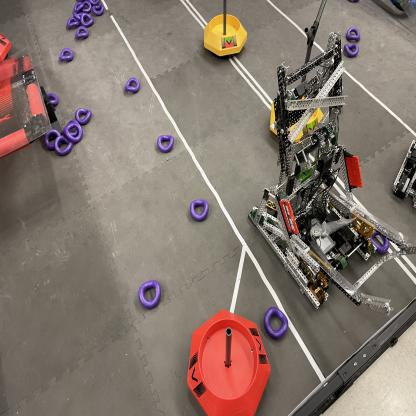ring: (262, 306, 290, 340), (136, 279, 162, 308), (369, 227, 390, 254), (190, 199, 209, 223), (53, 135, 73, 155), (61, 119, 82, 138), (63, 124, 83, 143), (43, 129, 62, 148), (74, 107, 92, 125), (156, 135, 174, 152), (124, 76, 140, 94), (343, 42, 359, 58), (44, 91, 59, 106), (345, 27, 361, 41), (58, 48, 74, 62), (79, 12, 94, 26), (74, 24, 88, 38), (72, 10, 86, 22), (79, 0, 91, 13), (92, 4, 104, 16), (65, 17, 79, 27), (73, 1, 84, 12), (91, 0, 100, 5)
